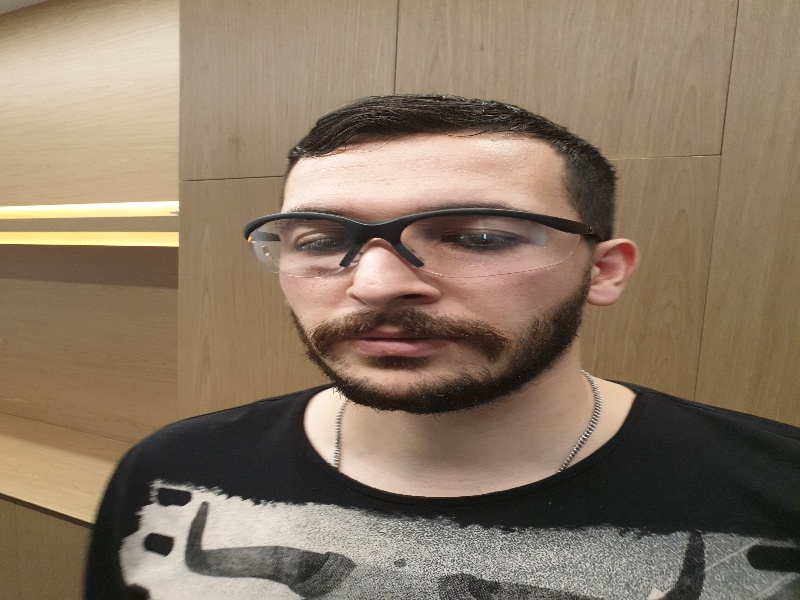Gozluk: (238, 208, 599, 272)
